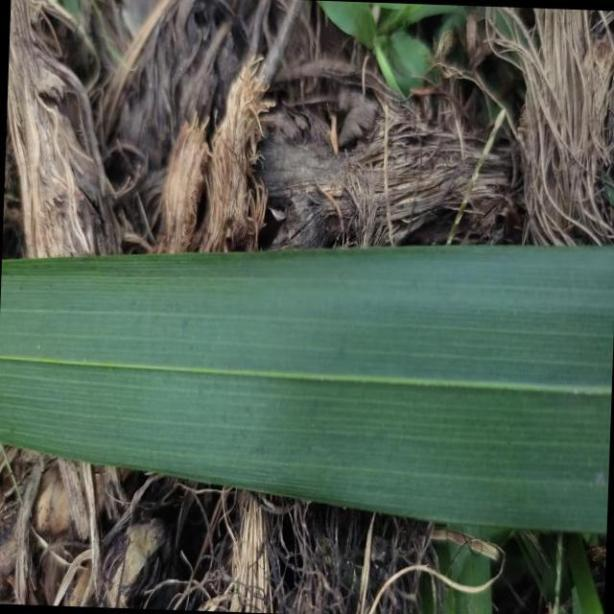Healthy: (0, 248, 614, 537)
